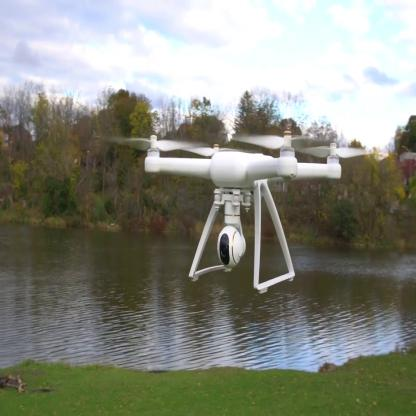drone: (115, 110, 380, 237)
